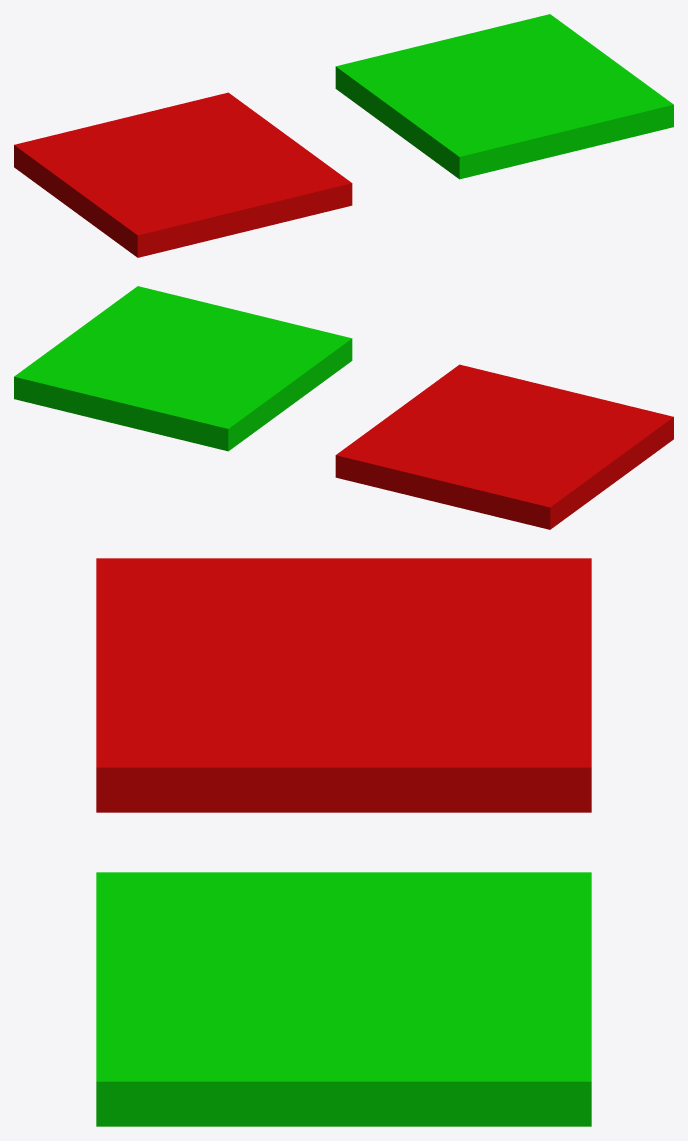
Rendered from two-slabs.glb.
3 renders of one model, top to bottom at view 1: azimuth 30°, elevation 25°; view 2: azimuth 150°, elevation 25°; view 3: azimuth 270°, elevation 25°, orthographic. The views are drawn at different scales.
Parts seen in each view (by area): view 1: Slab_A, Slab_B; view 2: Slab_A, Slab_B; view 3: Slab_A, Slab_B.
Boxes of the visible parts, x1,y1,x2,y2 form: Slab_A: [14, 92, 352, 257]; Slab_B: [335, 14, 673, 179]; Slab_A: [335, 364, 673, 529]; Slab_B: [14, 286, 352, 451]; Slab_A: [96, 558, 591, 812]; Slab_B: [96, 872, 591, 1126].
Bounding box in the file's own units: 5 × 0.2 × 2.
